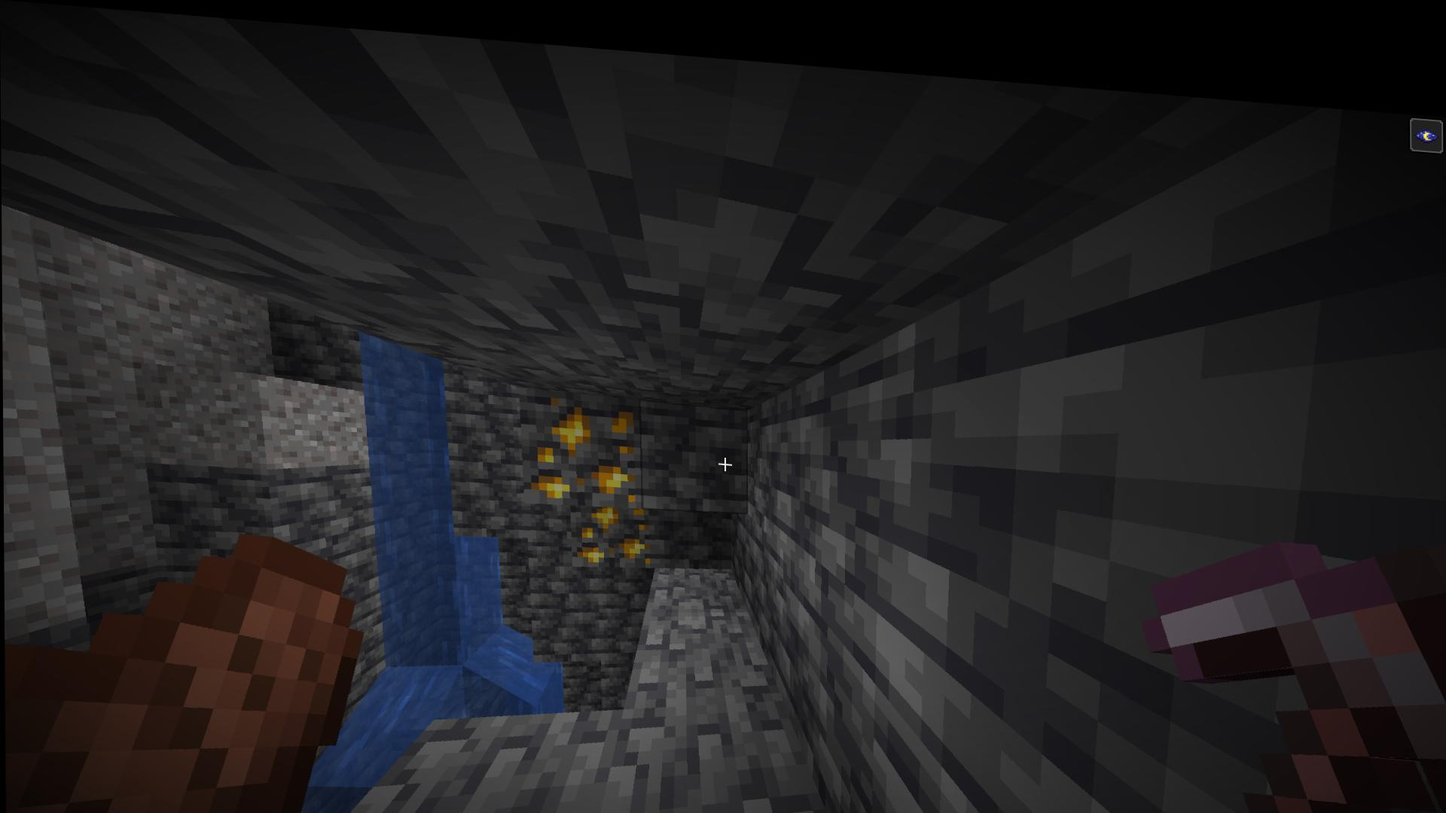gold ore: (525, 381, 642, 503), (573, 495, 650, 562)
